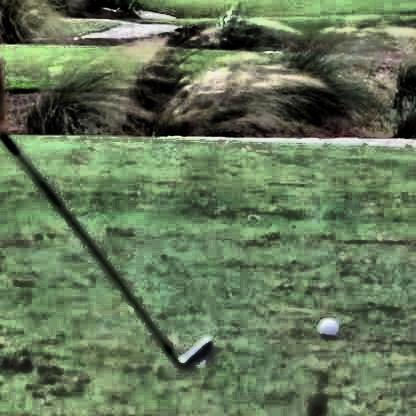golfball: (315, 315, 337, 337)
